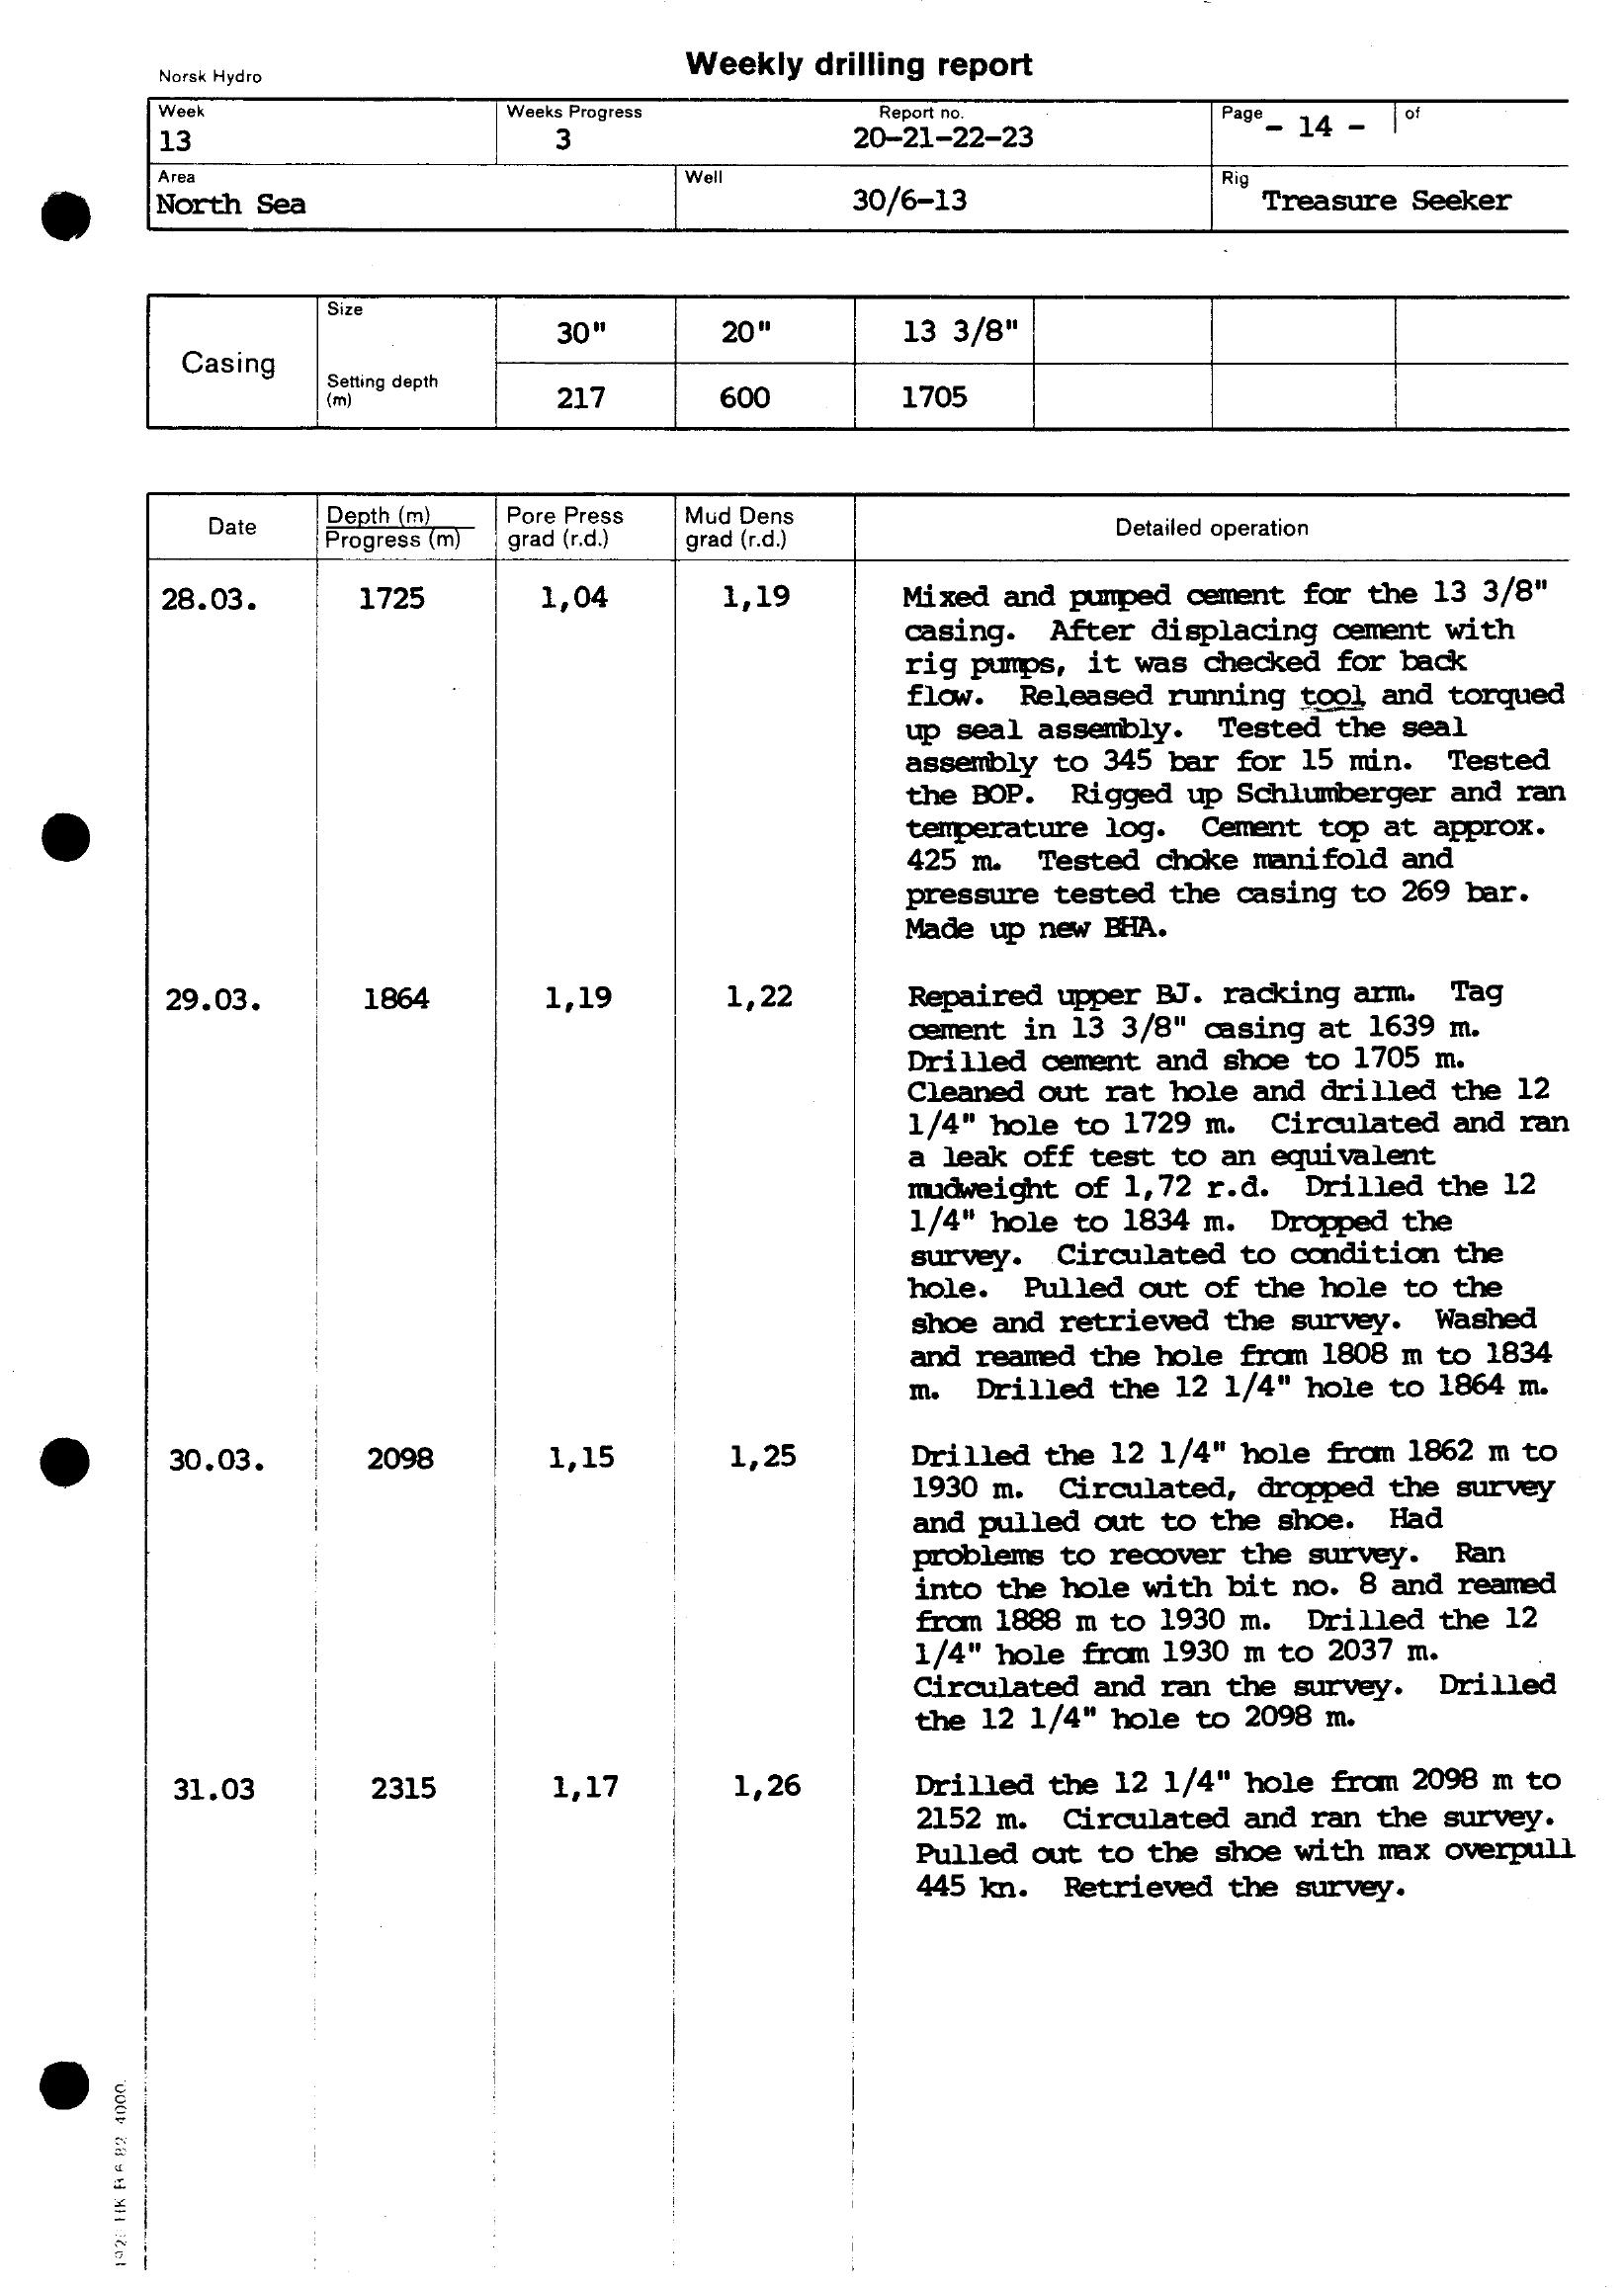graph: (137, 81, 1624, 1968)
text: (677, 39, 1048, 90)
